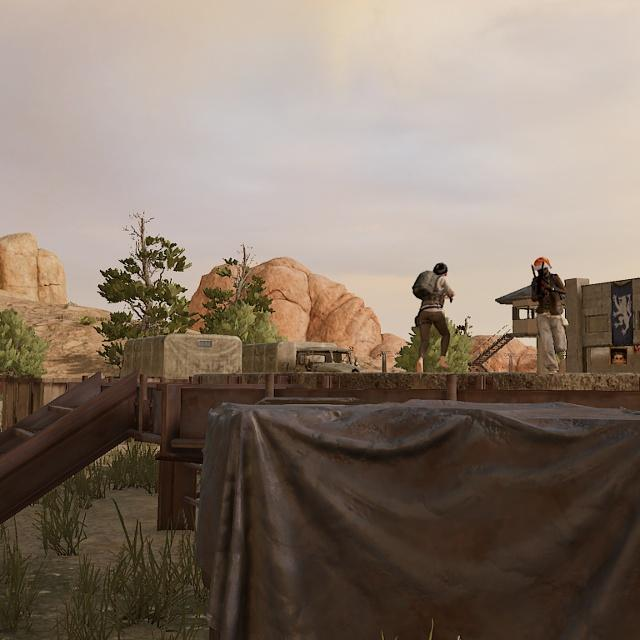head: (533, 254, 555, 279), (432, 258, 451, 280)
people: (522, 253, 577, 375), (409, 257, 462, 372)
